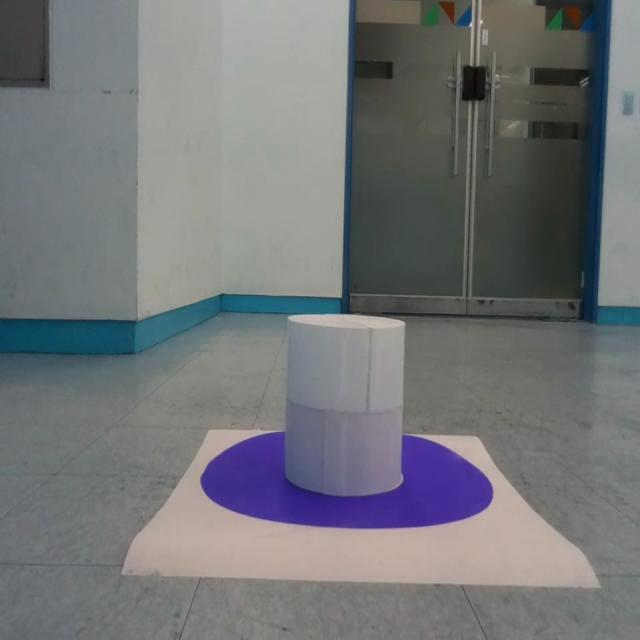cylinder: (282, 311, 406, 498)
